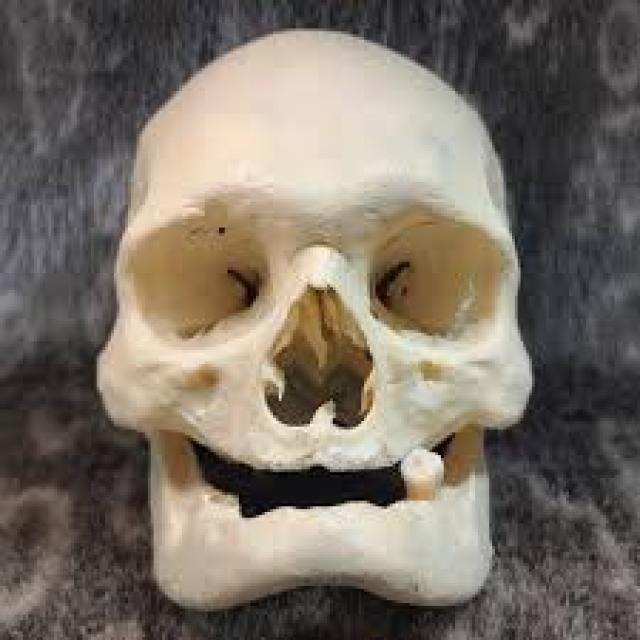skull: (92, 26, 555, 630)
